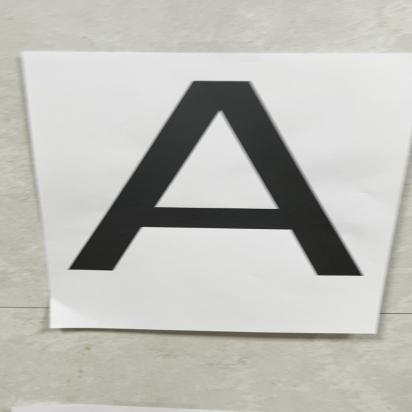seat: (65, 61, 378, 298)
